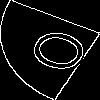O: (24, 24, 100, 81)
